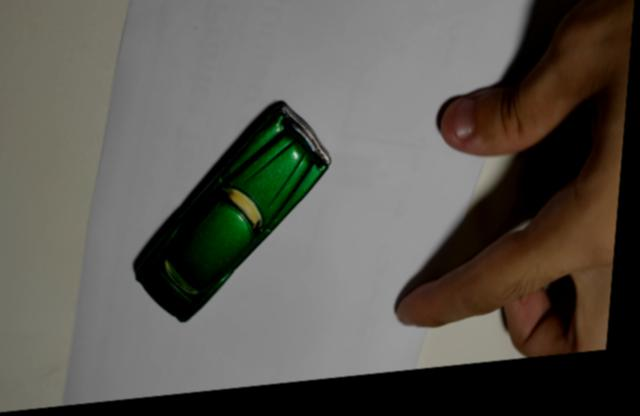06_MASERATI: (137, 105, 336, 326)
